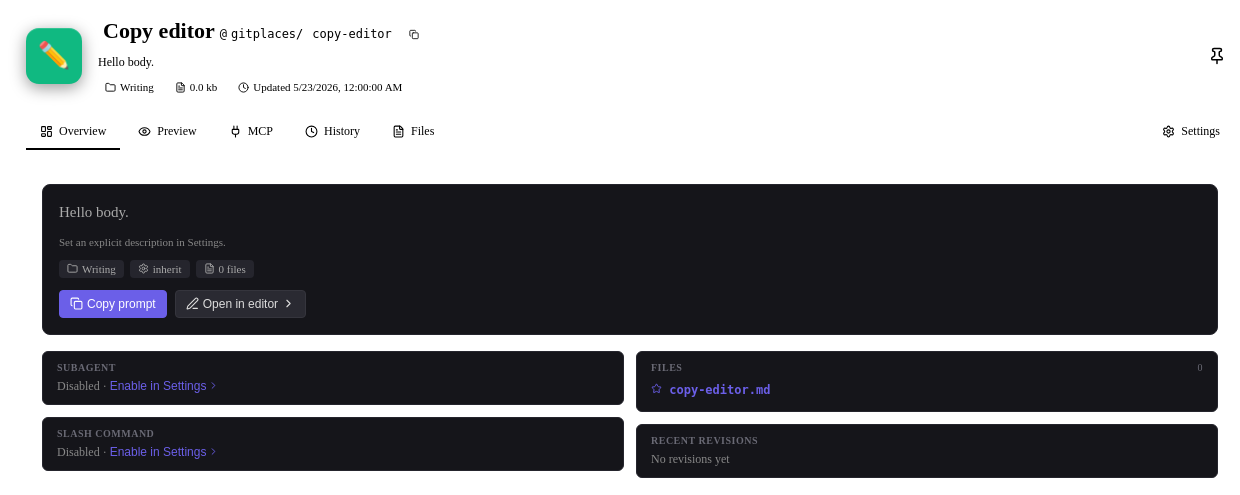
Test: AgentDetail › Escape reverts handle edit without saving
The width and height of the screenshot is (1240, 495).
Expected: the heading "Copy editor" is shown, [98, 16, 220, 46]
Step 1. Double-click the text "copy-editor" → (352, 34), box [307, 25, 397, 43]
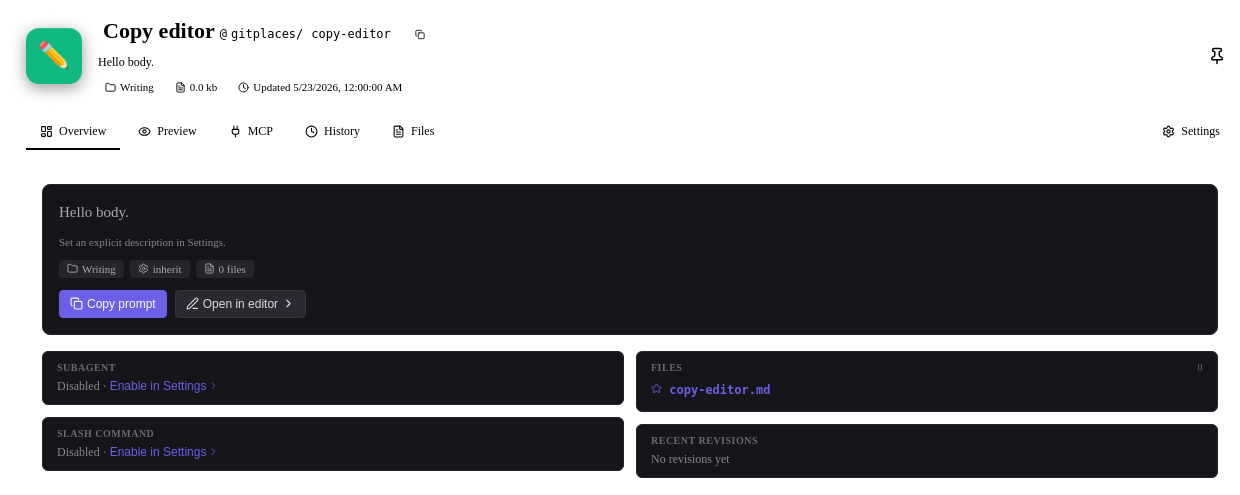
Step 2. Replace the text in the field named "Handle" with "something-else" → (355, 34), box [307, 27, 403, 41]
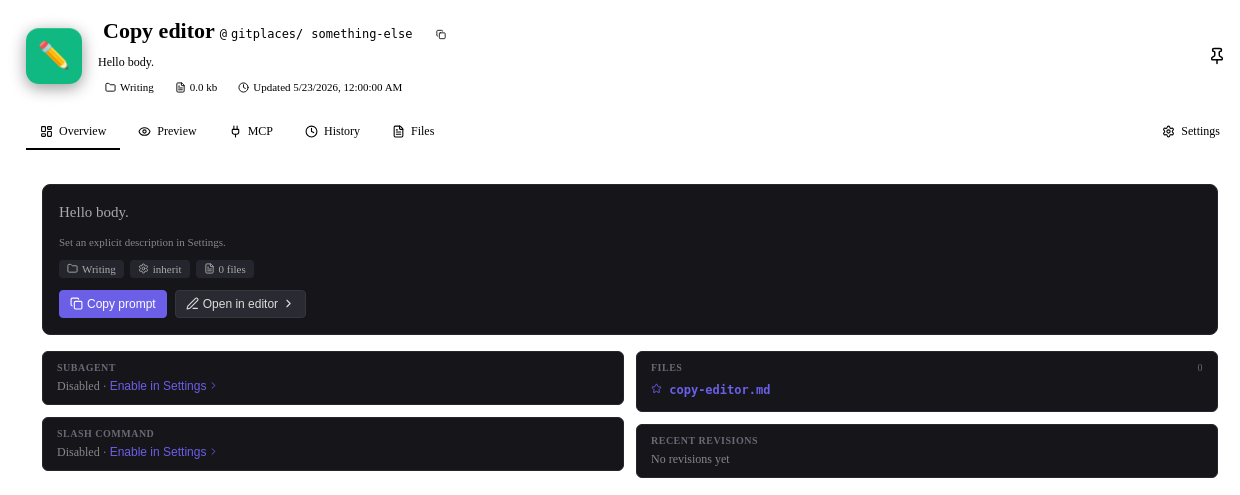
Step 3. Press Escape in the field named "Handle", box [307, 27, 424, 41]
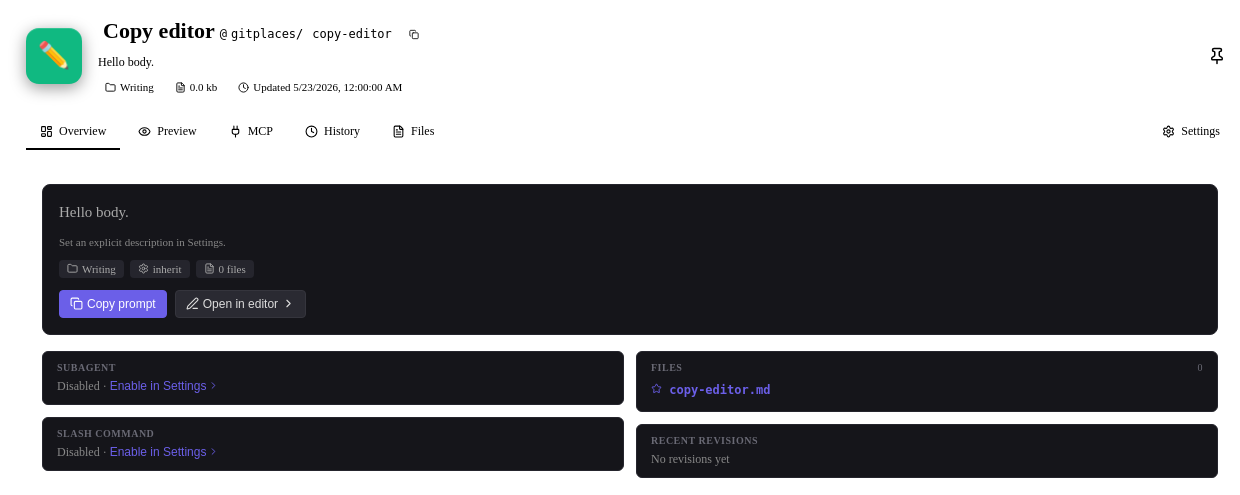
Expected: the field labelled "Handle" is gone
Expected: the text "copy-editor" is shown, [307, 25, 397, 43]
